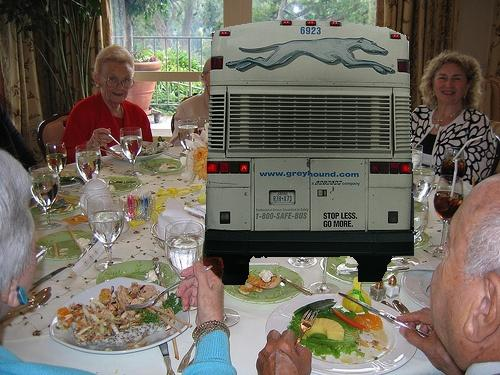tampered: (205, 21, 414, 285)
